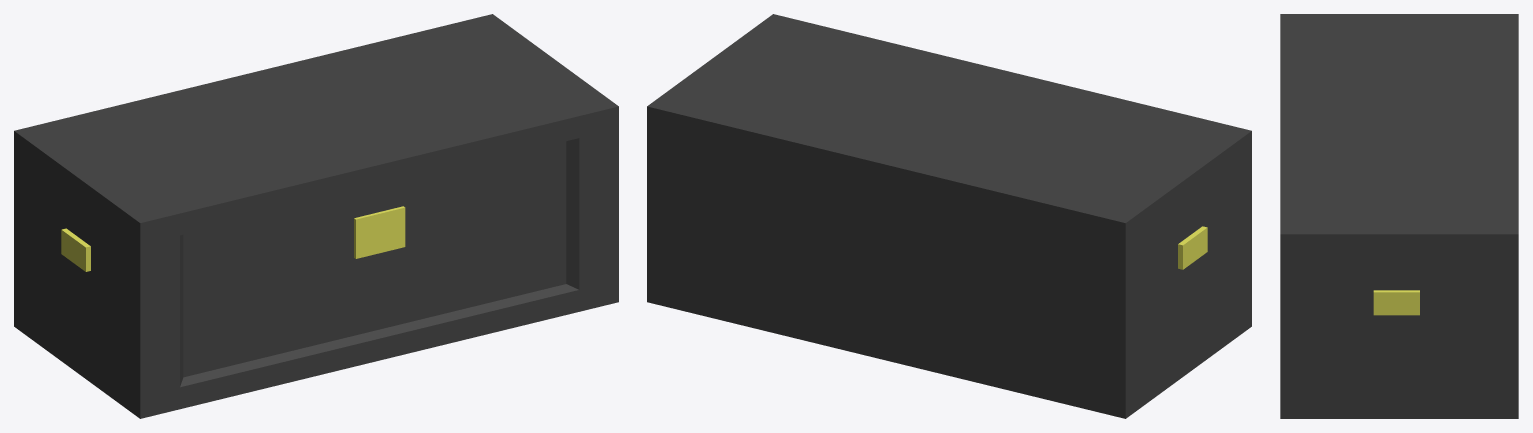
Rendered from z_heihe_01.fbx.
3 renders of one model, left to right at view 1: azimuth 30°, elevation 25°; view 2: azimuth 150°, elevation 25°; view 3: azimuth 270°, elevation 25°, orthographic. The views are drawn at different scales.
Visible parts, largest first — view 1: heihe_01; view 2: heihe_01; view 3: heihe_01.
Part boxes in pixels (x1,y1,x2,y2): heihe_01: (14, 14, 618, 418); heihe_01: (647, 14, 1251, 418); heihe_01: (1280, 14, 1518, 418).
Bounding box in the file's own units: 48.92 × 18.75 × 21.92.
